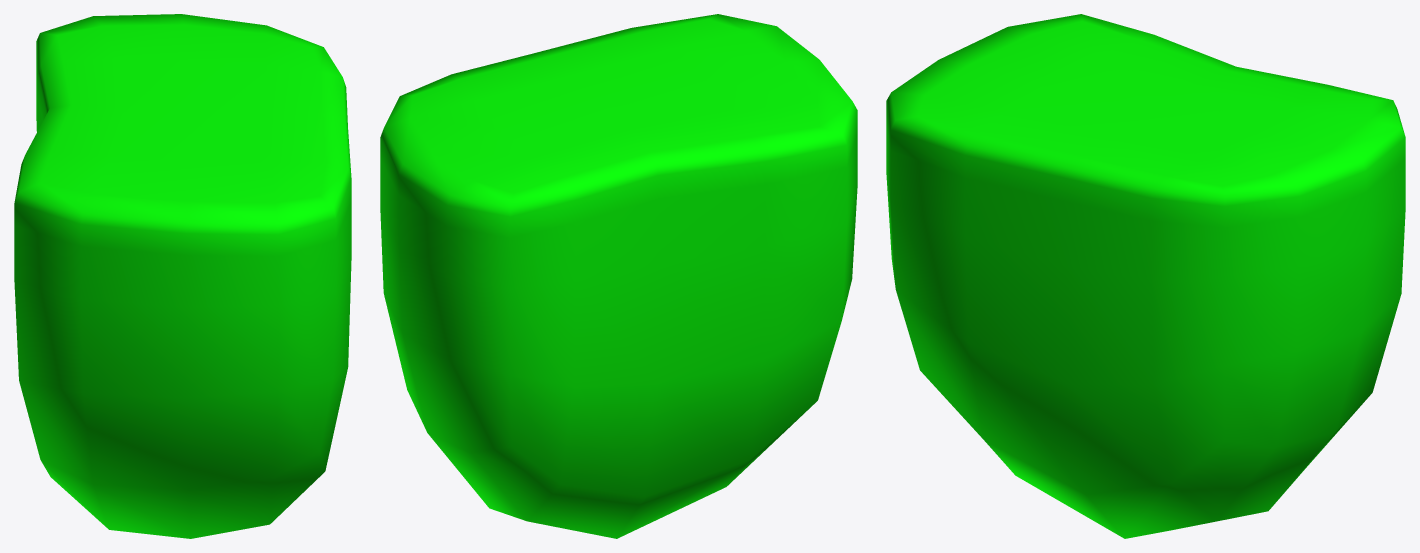
File: Bridge Island Layer .fbx
3 renders of one model, left to right at view 1: azimuth 30°, elevation 25°; view 2: azimuth 150°, elevation 25°; view 3: azimuth 270°, elevation 25°, orthographic.
Parts seen in each view (by area): view 1: Bridge Island Layer.002; view 2: Bridge Island Layer.002; view 3: Bridge Island Layer.002.
Boxes of the visible parts, x1,y1,x2,y2 form: Bridge Island Layer.002: (14,14,351,538); Bridge Island Layer.002: (380,14,857,538); Bridge Island Layer.002: (886,14,1405,538).
Bounding box in the file's own units: 23.84 × 25.01 × 28.23.
